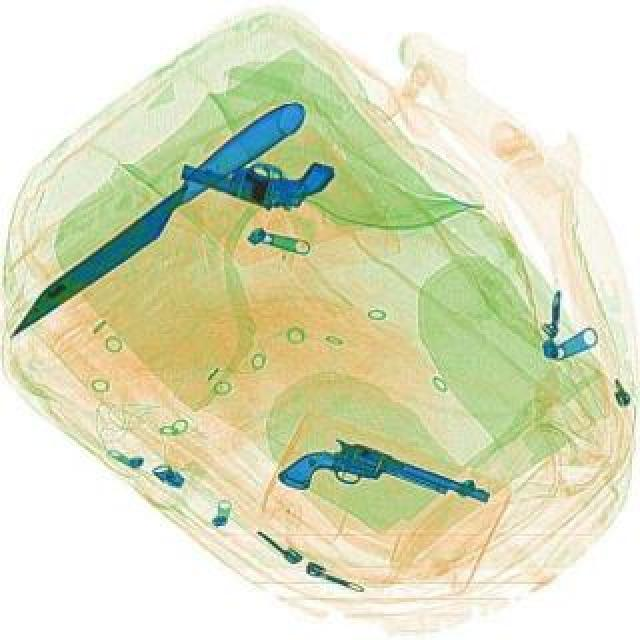gun: (276, 420, 492, 548), (176, 126, 336, 222)
knife: (0, 90, 312, 342)
